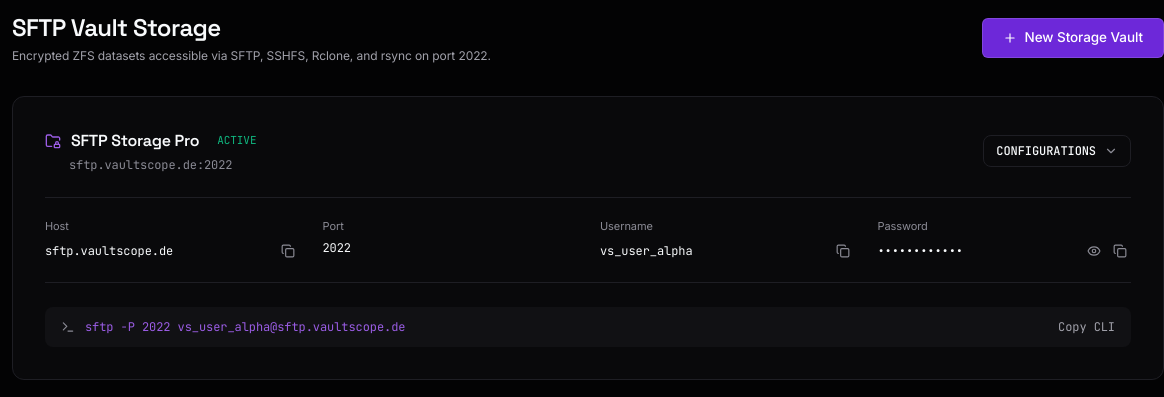
Test: SftpStorage - CONFIGURATIONS & FTHR Preset › opens dropdown menu on clicking CONFIGURATIONS and shows FTHR
Expected: the text "CONFIGURATIONS" is shown, [996,143,1096,159]
Click the button "CONFIGURATIONS".
click(1057, 151)  # box [983,135,1131,167]
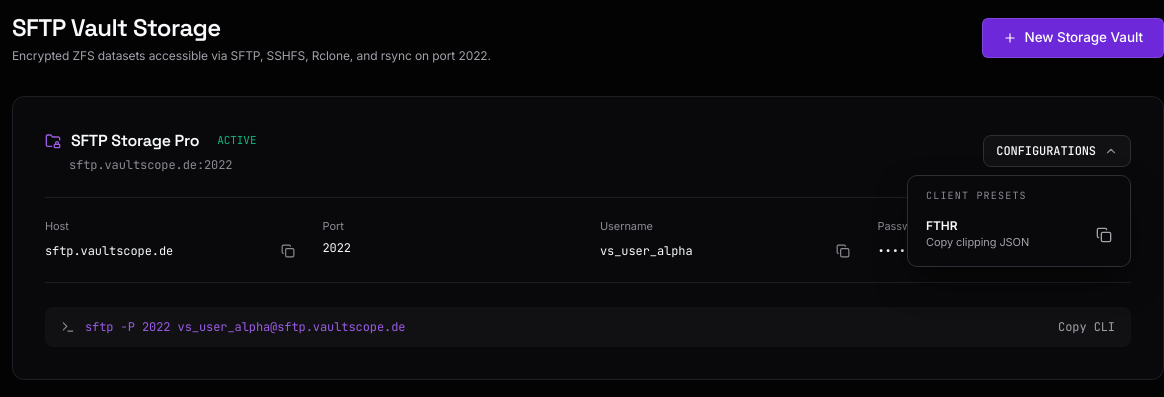
Expected: the text "FTHR" is shown, [926,218,957,233]
Expected: the text "Copy clipping JSON" is shown, [926,234,1029,252]
